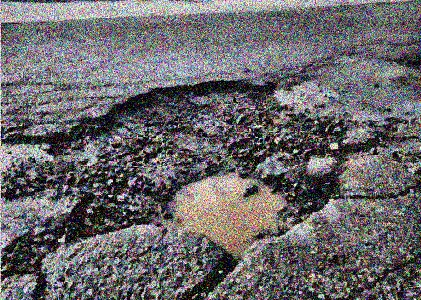pothole: (40, 75, 352, 264)
